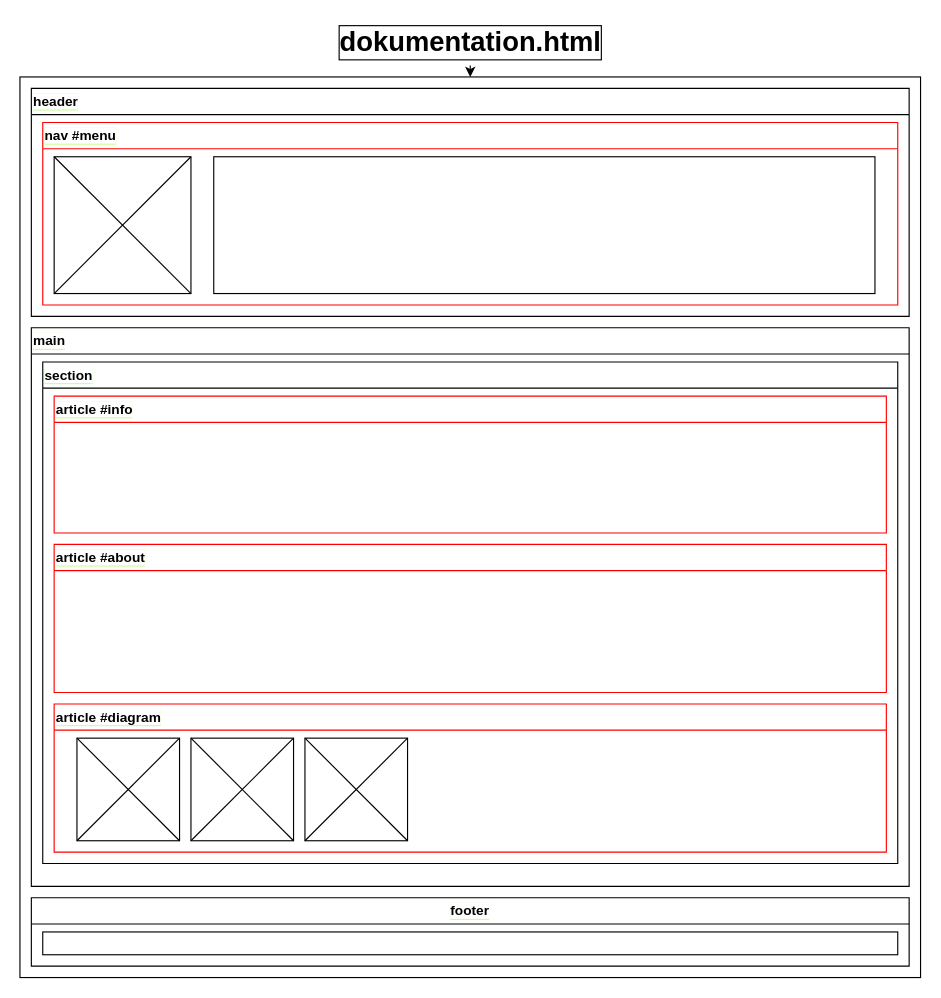
This 941x998 diagram has some shape labels left out. Each missing label, with the centre of its shape:
#logo: point 122,225
#navbar: point 544,225
h3: point 470,943
